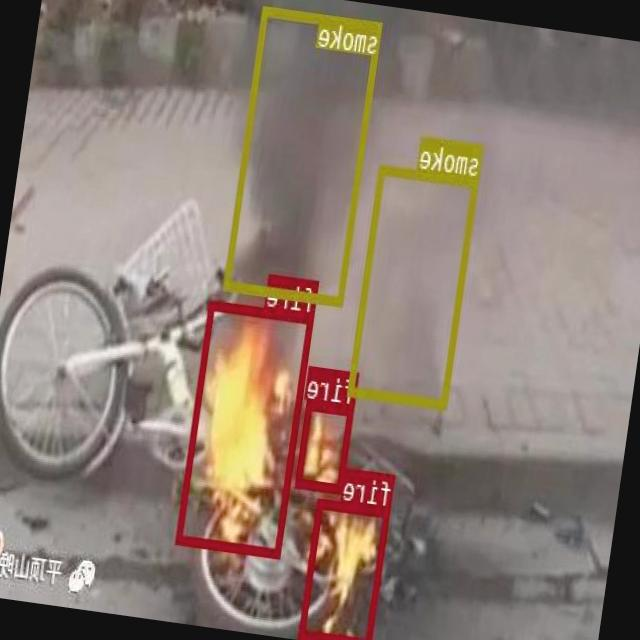fire: (178, 299, 315, 557), (300, 497, 391, 640), (297, 399, 356, 494)
smoke: (224, 6, 384, 306), (349, 164, 480, 408)
